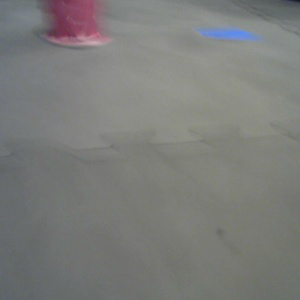middle: (39, 1, 112, 47)
